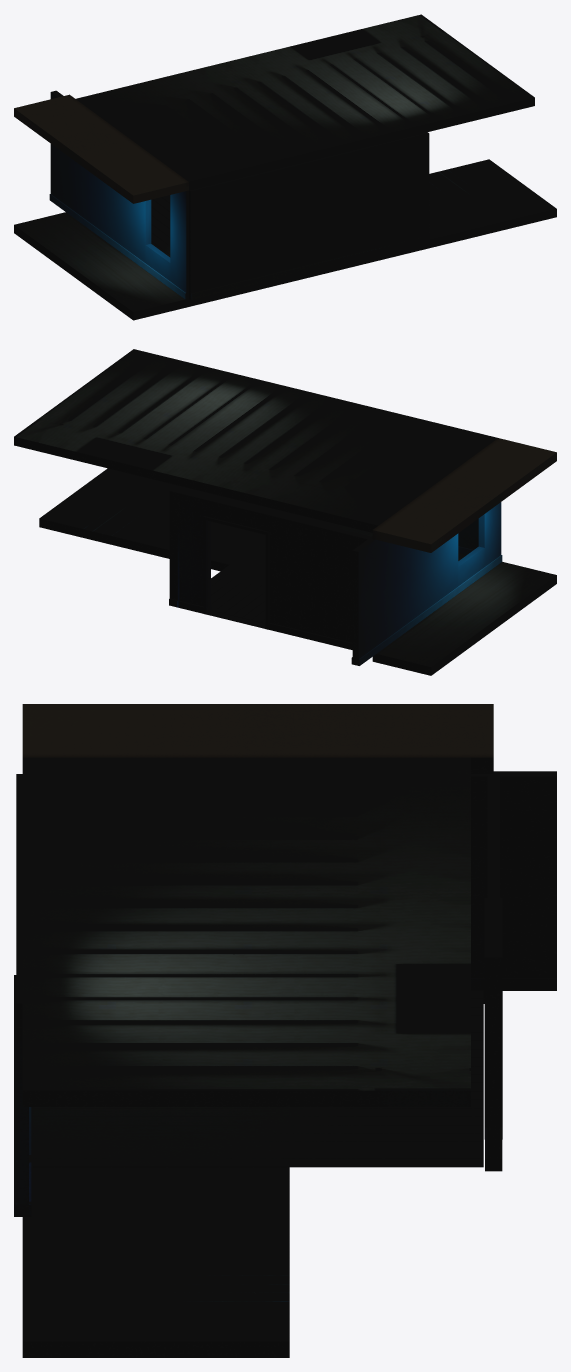
The model's file is den.glb.
3 views of the same model, one above another, from view 1: azimuth 30°, elevation 25°; view 2: azimuth 150°, elevation 25°; view 3: azimuth 270°, elevation 25° (orthographic). The views are drawn at different scales.
Parts seen in each view (by area): view 1: Attic floor / hall ceiling.002, Proposed wall 02, Den metric ceiling, Attic floor / hall ceiling.001, Den metric floor, Main floor.001, Proposed wall 01.005, Main floor.002, Proposed wall 01.008, Finish / skirting, Finish / skirting.023, Proposed wall 01.006; view 2: Attic floor / hall ceiling.002, Attic floor / hall ceiling.001, Main floor.001, Proposed wall 09, Den metric ceiling, Proposed wall 01.005, Den metric floor, Proposed wall 09.002, Proposed wall 09.001, Proposed wall 01.008, Finish / skirting.023, Proposed wall 01.006 (+10 smaller); view 3: Attic floor / hall ceiling.002, Main floor.001, Attic floor / hall ceiling.001, Den metric ceiling, Proposed wall 01.005, Finish / floor board.073, Finish / floor board.072, Finish / floor board.074, Finish / floor board.077, Finish / floor board.075, Finish / floor board.076, Finish / floor board.078 (+8 smaller).
Part boxes in pixels (left/top/right/bottom): Attic floor / hall ceiling.002: left=99, top=31, right=534, bottom=190; Proposed wall 02: left=189, top=132, right=429, bottom=298; Den metric ceiling: left=14, top=94, right=188, bottom=203; Attic floor / hall ceiling.001: left=76, top=14, right=443, bottom=115; Den metric floor: left=14, top=212, right=188, bottom=320; Main floor.001: left=429, top=159, right=552, bottom=236; Proposed wall 01.005: left=50, top=90, right=151, bottom=262; Main floor.002: left=189, top=206, right=556, bottom=306; Proposed wall 01.008: left=170, top=190, right=188, bottom=299; Finish / skirting: left=189, top=235, right=429, bottom=299; Finish / skirting.023: left=49, top=194, right=144, bottom=269; Proposed wall 01.006: left=145, top=244, right=170, bottom=280; Attic floor / hall ceiling.002: left=38, top=349, right=497, bottom=507; Attic floor / hall ceiling.001: left=14, top=419, right=401, bottom=532; Main floor.001: left=39, top=469, right=296, bottom=571; Proposed wall 09: left=266, top=512, right=372, bottom=642; Den metric ceiling: left=372, top=438, right=556, bottom=552; Proposed wall 01.005: left=352, top=533, right=458, bottom=665; Den metric floor: left=372, top=562, right=556, bottom=675; Proposed wall 09.002: left=169, top=488, right=210, bottom=613; Proposed wall 09.001: left=207, top=498, right=268, bottom=530; Proposed wall 01.008: left=478, top=502, right=501, bottom=566; Finish / skirting.023: left=351, top=586, right=459, bottom=665; Proposed wall 01.006: left=458, top=546, right=484, bottom=585; Attic floor / hall ceiling.002: left=22, top=757, right=380, bottom=1106; Main floor.001: left=36, top=1167, right=289, bottom=1357; Attic floor / hall ceiling.001: left=380, top=757, right=470, bottom=1106; Den metric ceiling: left=22, top=704, right=493, bottom=773; Proposed wall 01.005: left=471, top=771, right=556, bottom=977; Finish / floor board.073: left=32, top=1116, right=483, bottom=1125; Finish / floor board.072: left=32, top=1108, right=483, bottom=1116; Finish / floor board.074: left=32, top=1125, right=483, bottom=1133; Finish / floor board.077: left=32, top=1150, right=483, bottom=1158; Finish / floor board.075: left=32, top=1133, right=483, bottom=1141; Finish / floor board.076: left=32, top=1142, right=483, bottom=1150; Finish / floor board.078: left=32, top=1159, right=483, bottom=1167.
Size of the model in its own units: 10.65 by 3 by 6.
Materials: 4 (4 with a texture image).
